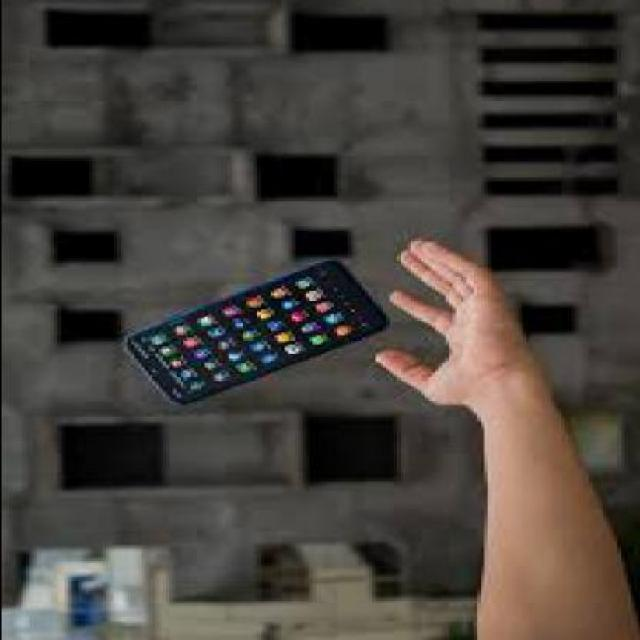phone: (120, 256, 389, 407)
